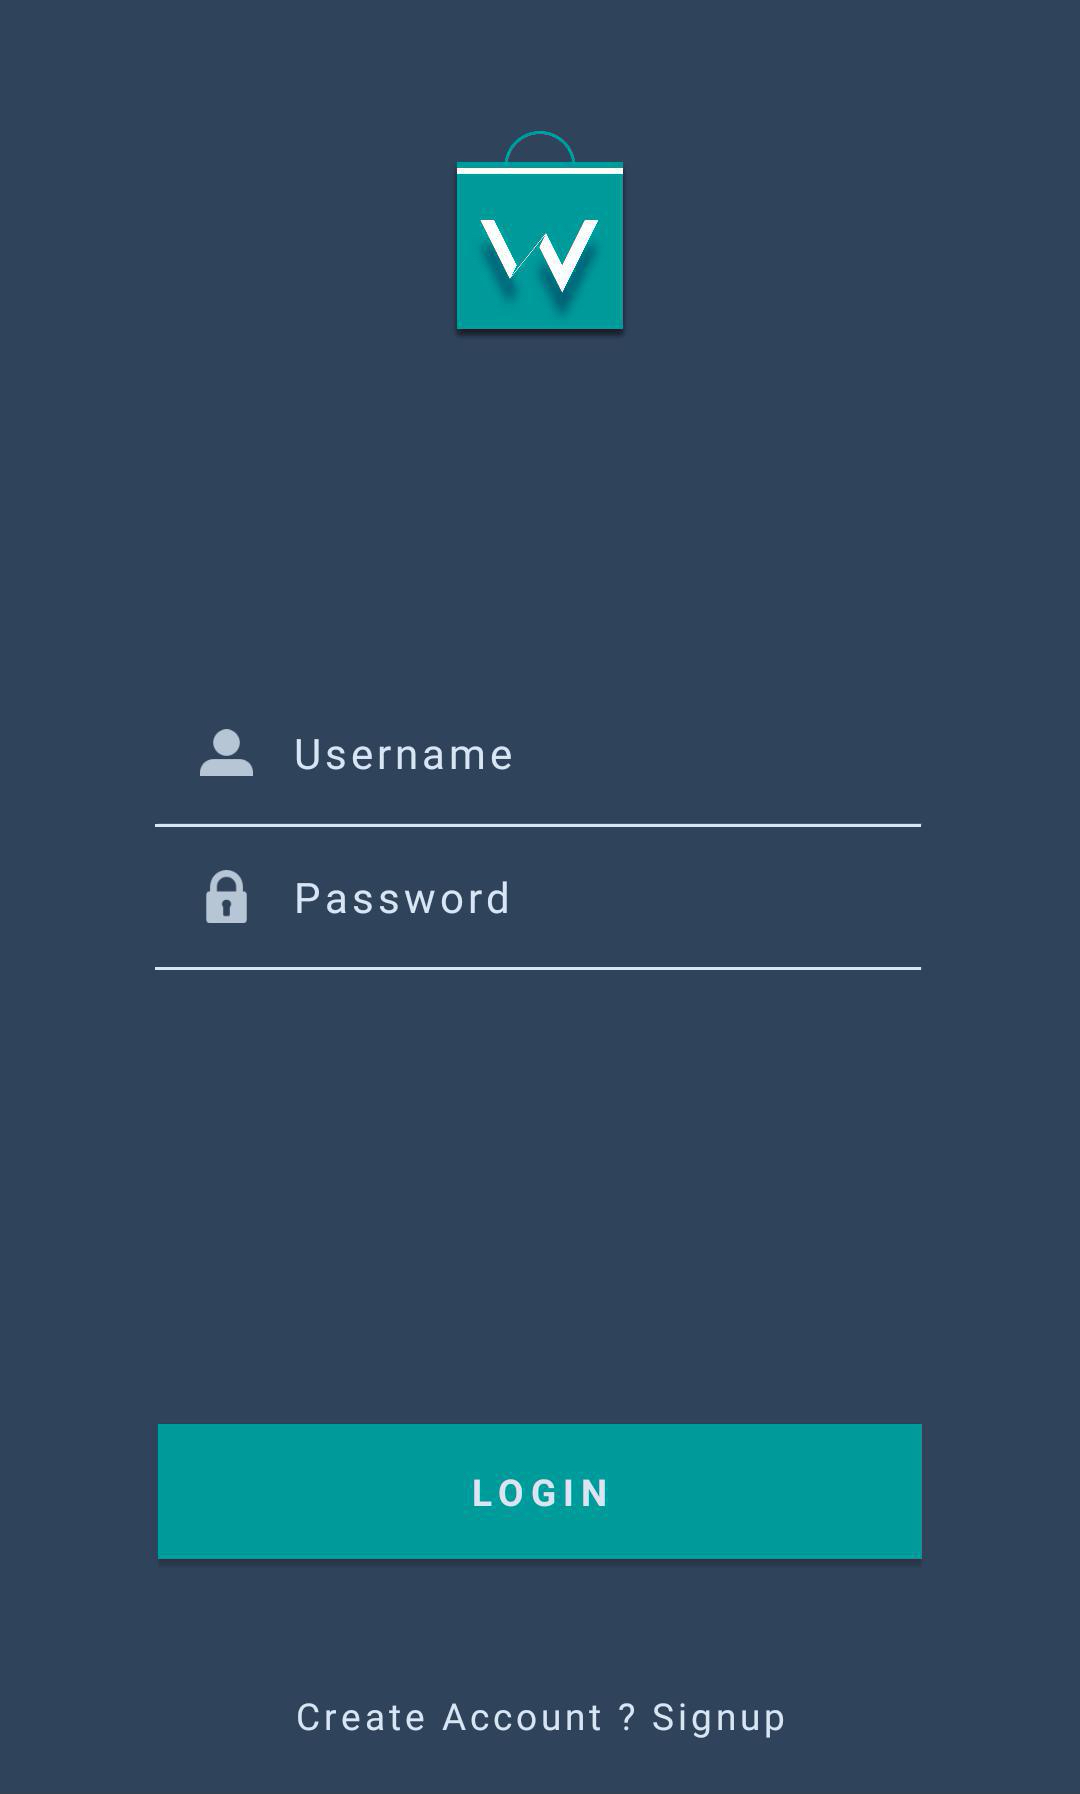EditText: (156, 869, 922, 973), (155, 727, 922, 828)
Icon: (200, 728, 255, 778), (206, 869, 249, 924)
Image: (456, 129, 625, 336)
Text: (299, 1702, 784, 1739), (296, 880, 509, 915), (296, 739, 512, 771)
TextButton: (158, 1422, 922, 1559)
